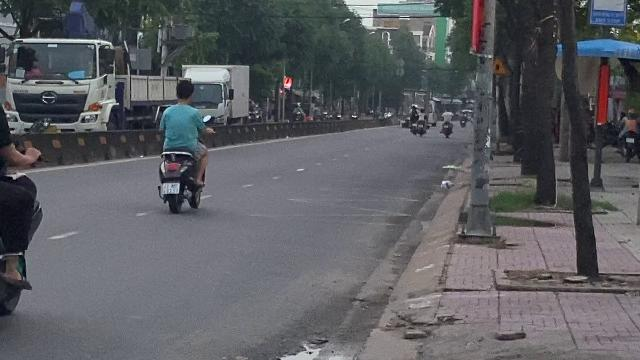licenseplate: (162, 184, 180, 194)
motorcyclist: (154, 78, 212, 214)
nohelmet: (173, 78, 194, 103)
